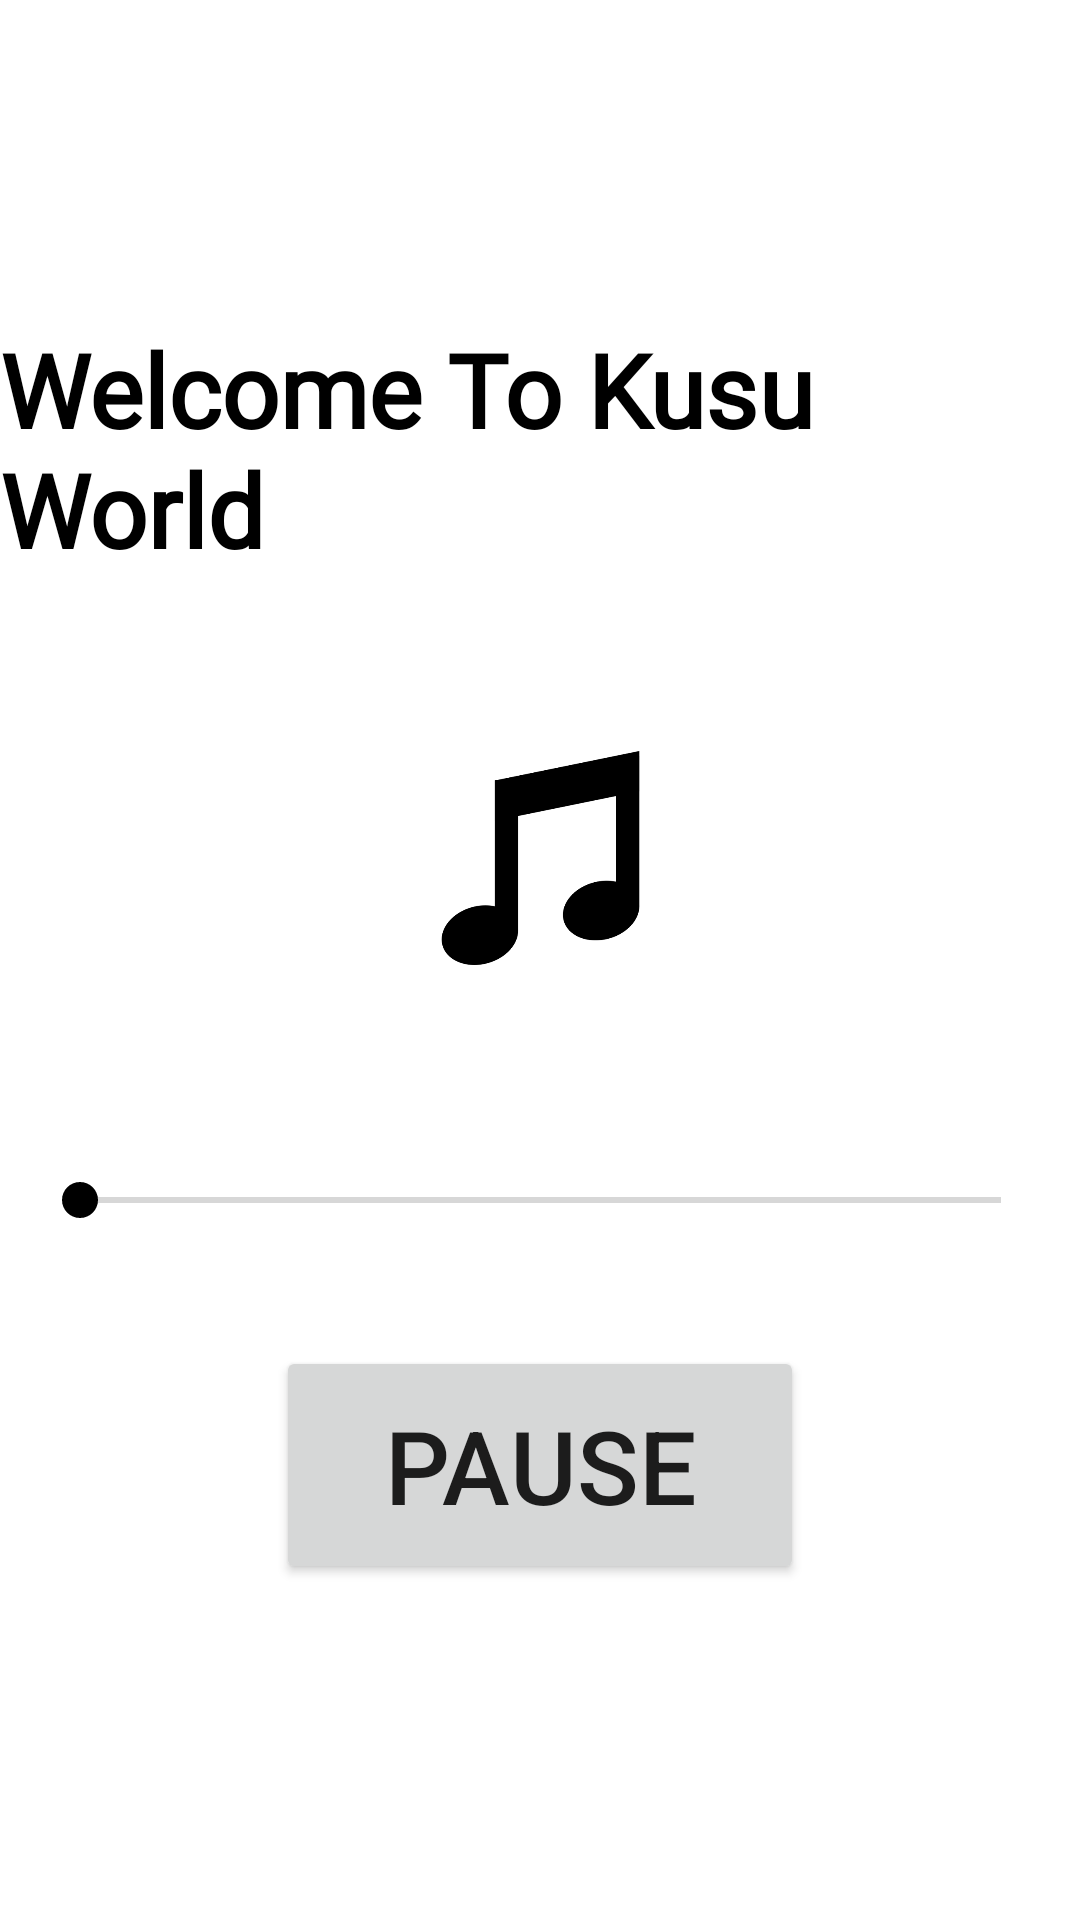

Screen size 1080*1920. Icon name, then its box in pixels as region(x1, y1, x2, y2):
music: region(441, 751, 640, 965)
